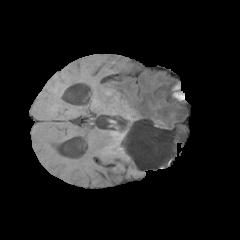glioma: (105, 73, 187, 155)
